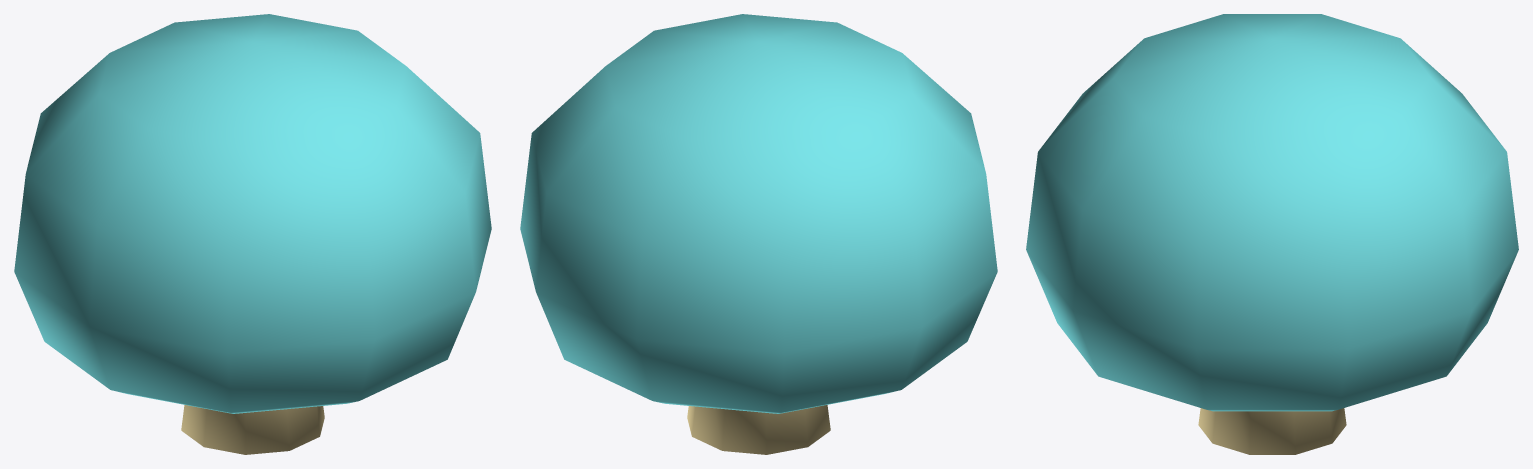
Rendered from Mushroom2_Bogdan.fbx.
3 views of the same model, side by side, from view 1: azimuth 30°, elevation 25°; view 2: azimuth 150°, elevation 25°; view 3: azimuth 270°, elevation 25° (orthographic).
Parts seen in each view (by area): view 1: Mushroom2; view 2: Mushroom2; view 3: Mushroom2.
Part boxes in pixels (x1=…): Mushroom2: x1=14, y1=14, x2=491, y2=454; Mushroom2: x1=520, y1=14, x2=997, y2=454; Mushroom2: x1=1026, y1=14, x2=1518, y2=454.
Size of the model in its own units: 82.09 by 74.48 by 86.32.
